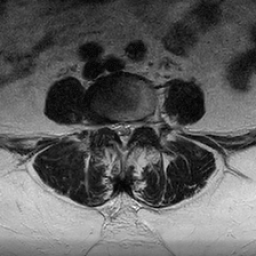CCS_normal: (120, 112, 128, 154)
LFS_stenosis: (138, 112, 146, 137)
LLS_normal: (128, 114, 137, 140)
RFS_severe_stenosis: (102, 116, 110, 134)
RLS_normal: (110, 115, 120, 144)
